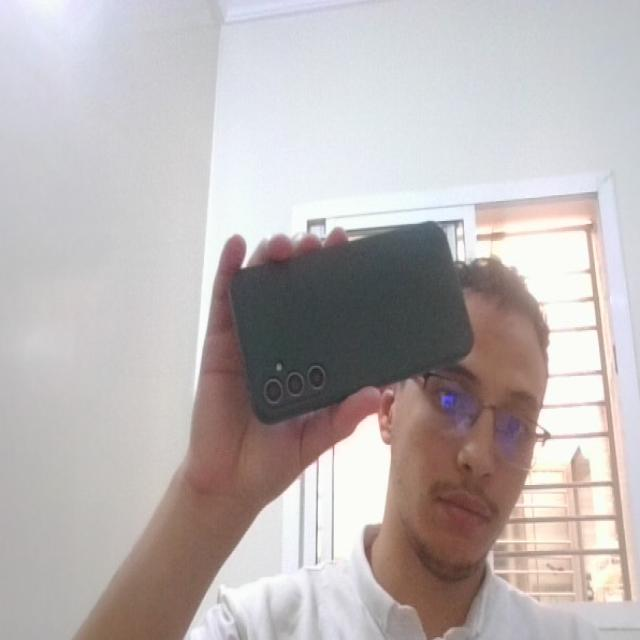phone: (228, 213, 475, 430)
